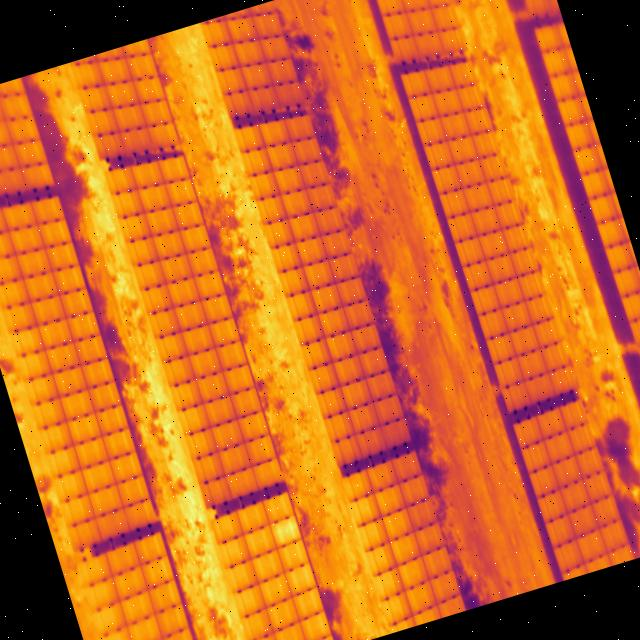Hotspot: (270, 514, 300, 546)
